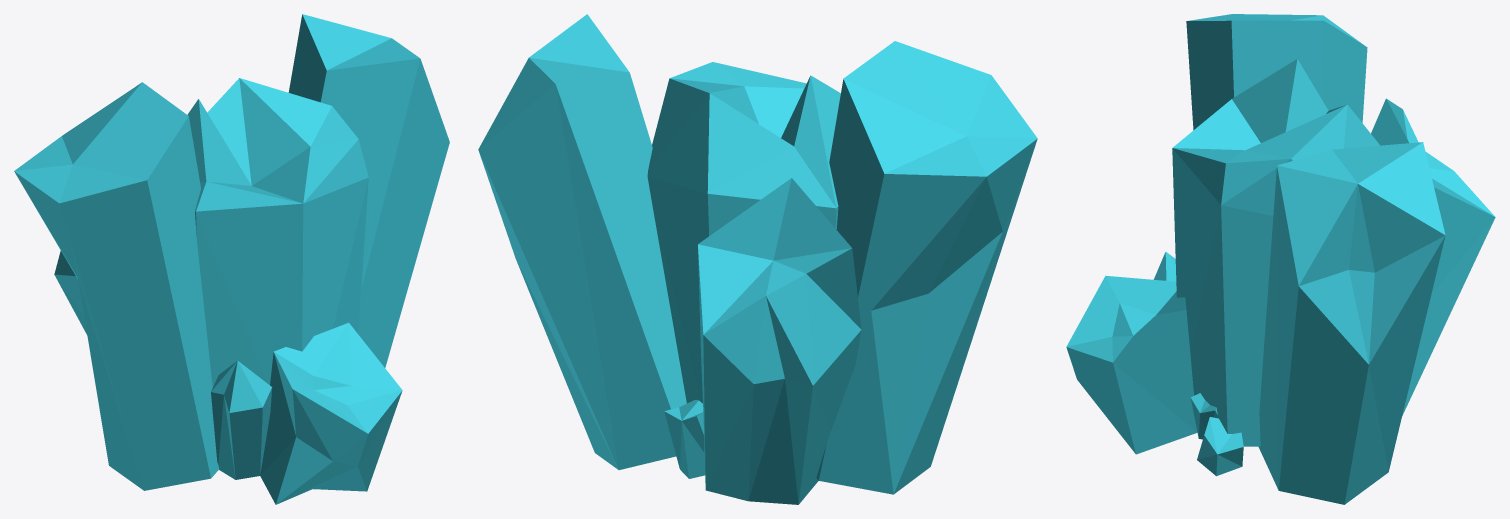
File: Kristall_04.fbx
3 renders of one model, left to right at view 1: azimuth 30°, elevation 25°; view 2: azimuth 150°, elevation 25°; view 3: azimuth 270°, elevation 25°, orthographic. The views are drawn at different scales.
Visible parts, largest first — view 1: Cylinder.008; view 2: Cylinder.008; view 3: Cylinder.008.
Part boxes in pixels (x1=…): Cylinder.008: x1=14, y1=14, x2=449, y2=504; Cylinder.008: x1=478, y1=14, x2=1037, y2=504; Cylinder.008: x1=1066, y1=14, x2=1495, y2=504.
Size of the model in its own units: 54.24 by 46.71 by 47.78.
